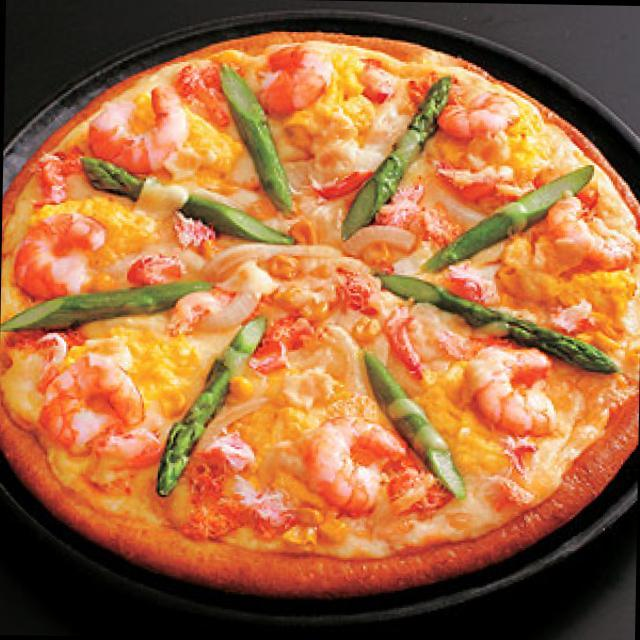Pizza: (0, 8, 640, 619)
